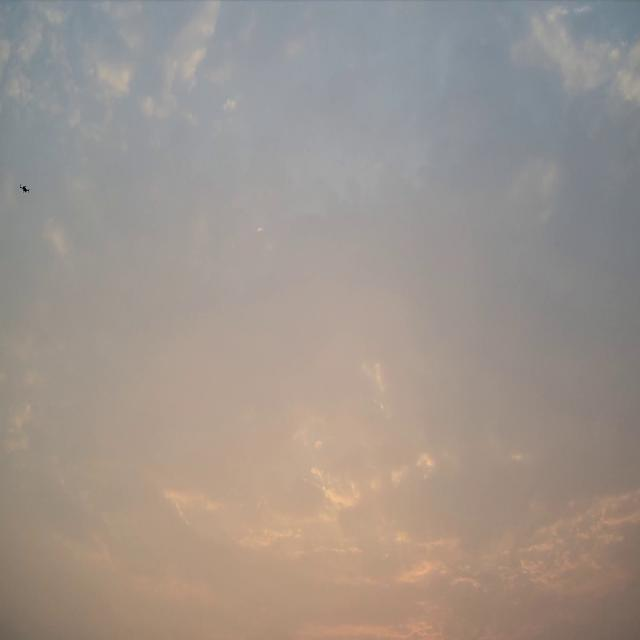drone: (19, 183, 31, 193)
